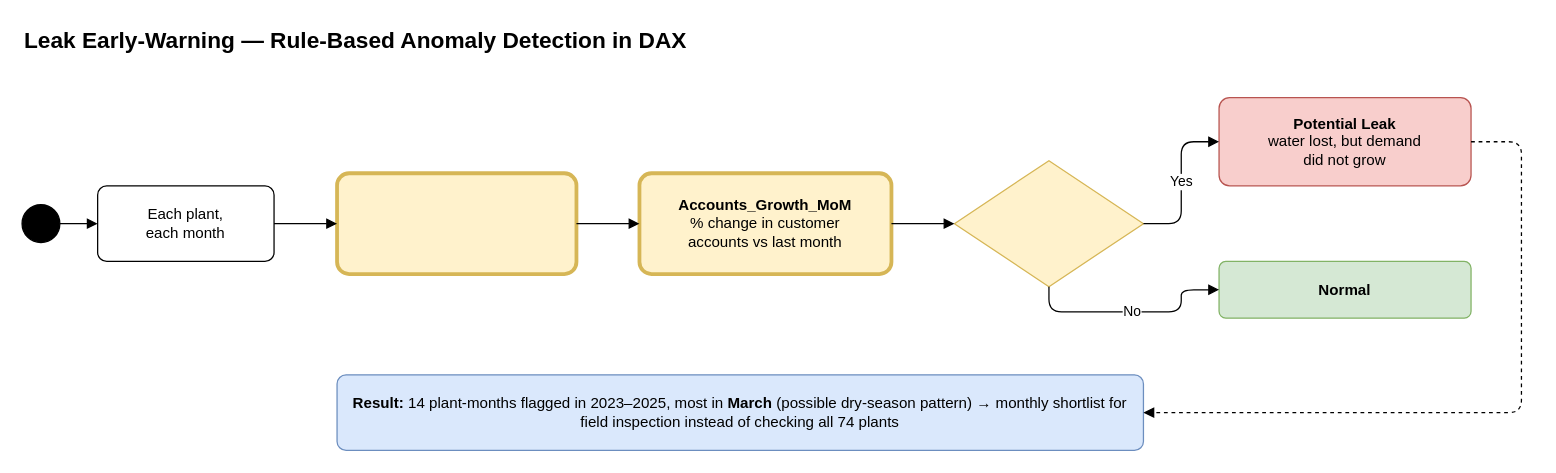
This 1556x473 diagram has some shape labels left out. The shapes that lost their labels are listed below. From the top down, each one's centre as x and y in pixels, then its label:
At pixel 456 223: "NRW_Growth_MoM % change in NRW vs last month (DATEADD)".
At pixel 1048 223: "NRW > +15% AND accounts < +3% ?".
